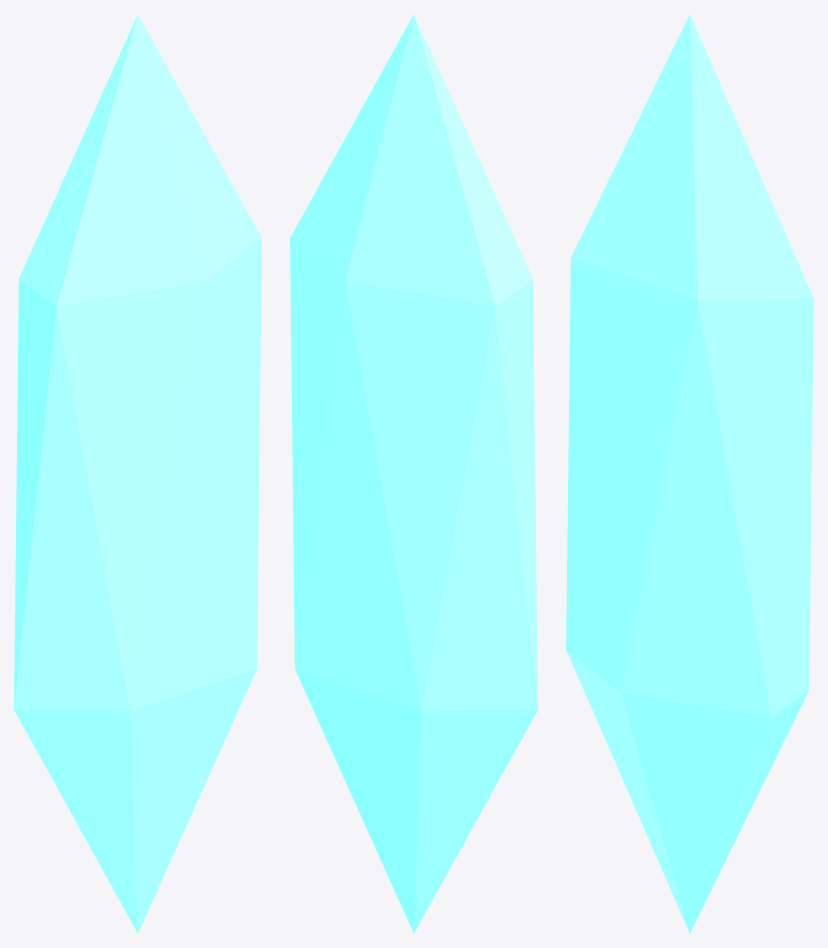
Rendered from frost_shard_b.glb.
3 renders of one model, left to right at view 1: azimuth 30°, elevation 25°; view 2: azimuth 150°, elevation 25°; view 3: azimuth 330°, elevation 25°, orthographic.
Visible parts, largest first — view 1: frost_shard_b; view 2: frost_shard_b; view 3: frost_shard_b.
Part boxes in pixels (x1,y1,x2,y2): frost_shard_b: (14,14,261,933); frost_shard_b: (290,14,537,933); frost_shard_b: (566,14,813,933).
Bounding box in the file's own units: 0.2594 × 0.92 × 0.1106.
